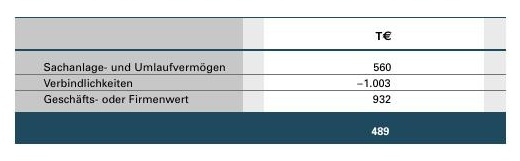table: (0, 0, 520, 161)
